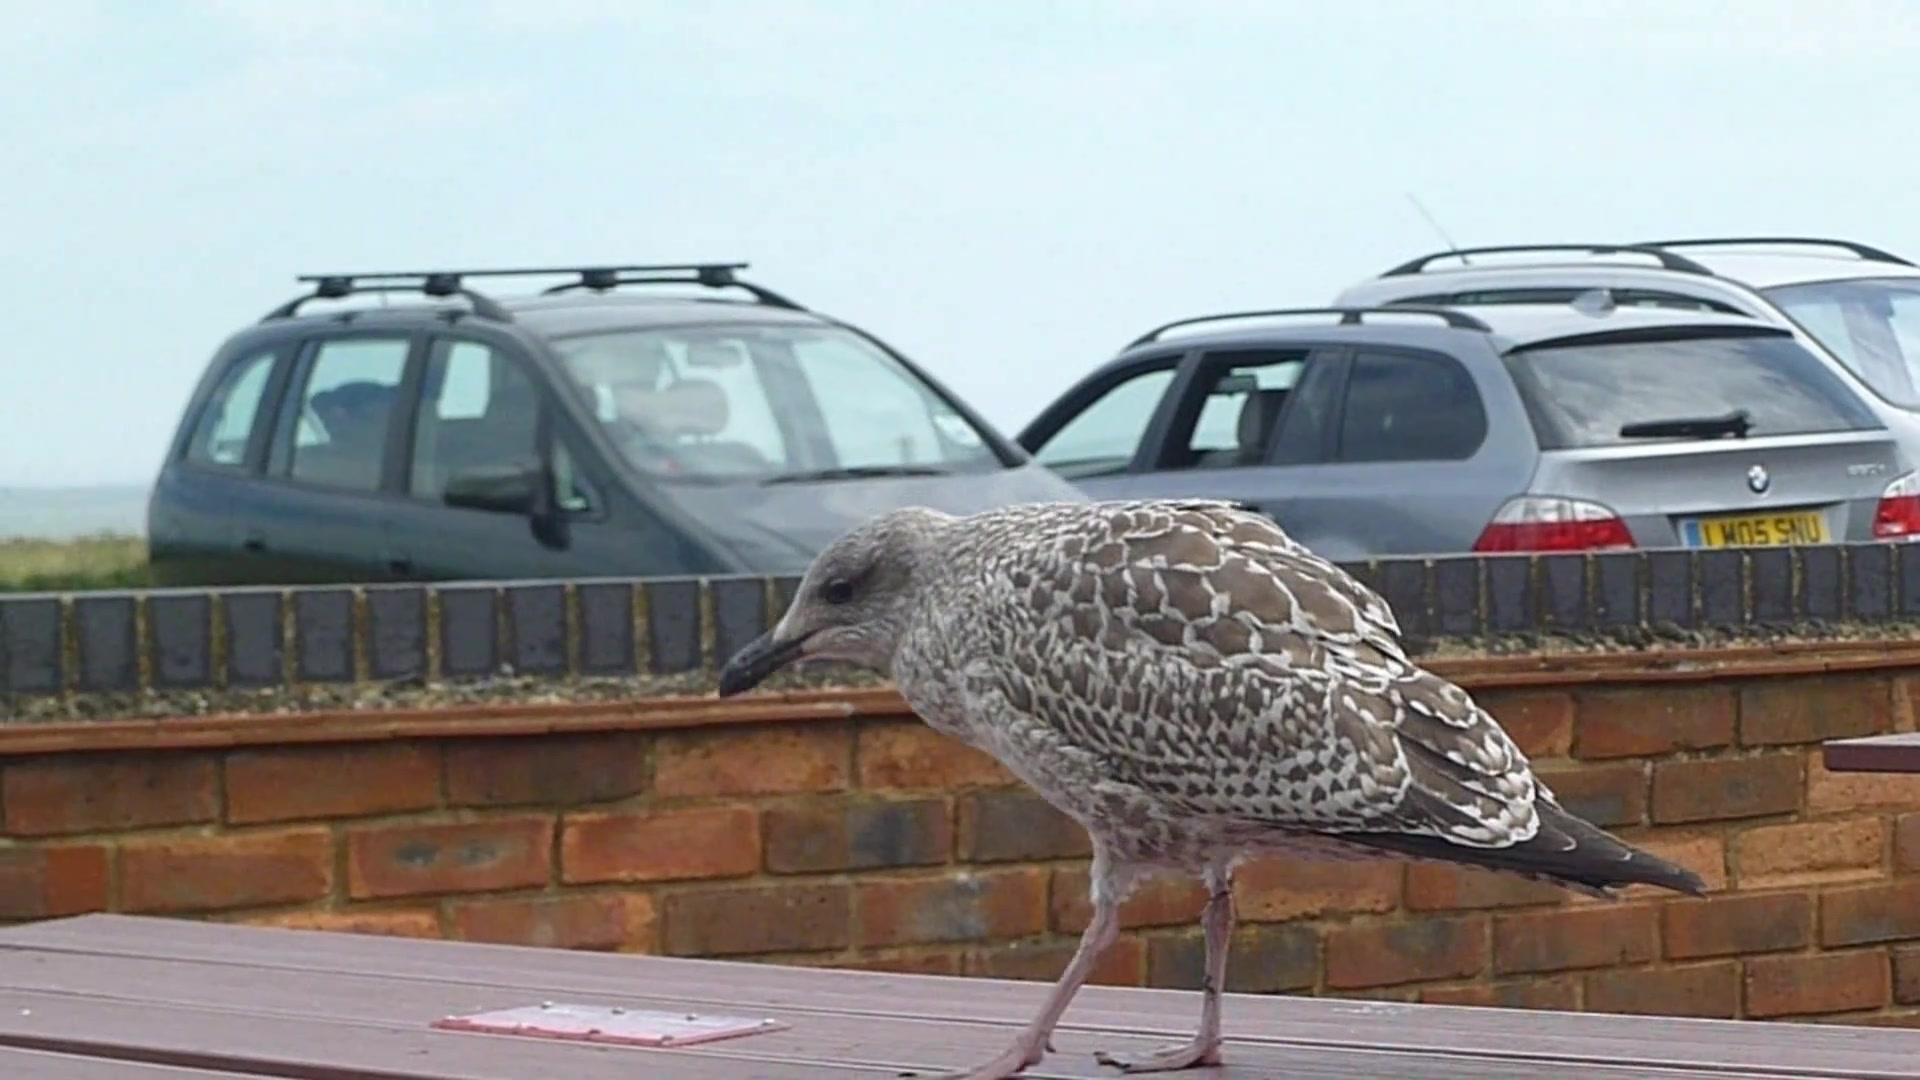bird: (716, 498, 1716, 1077)
